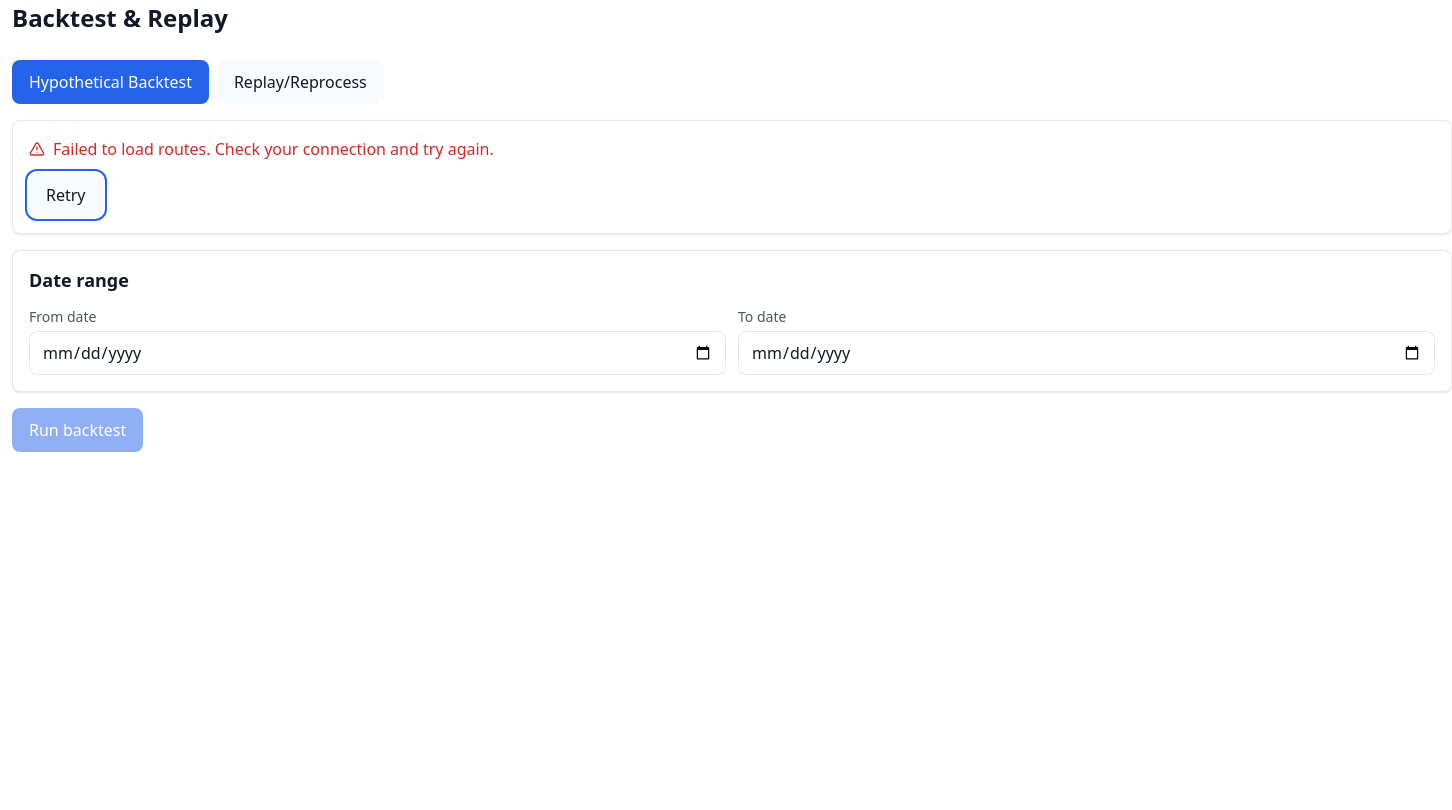
Test: BacktestView › recovers the route editor after a successful retry
The image size is (1452, 810).
Click the button "Retry" at (66,195), box left=29, top=173, right=102, bottom=217
(page scrolled)
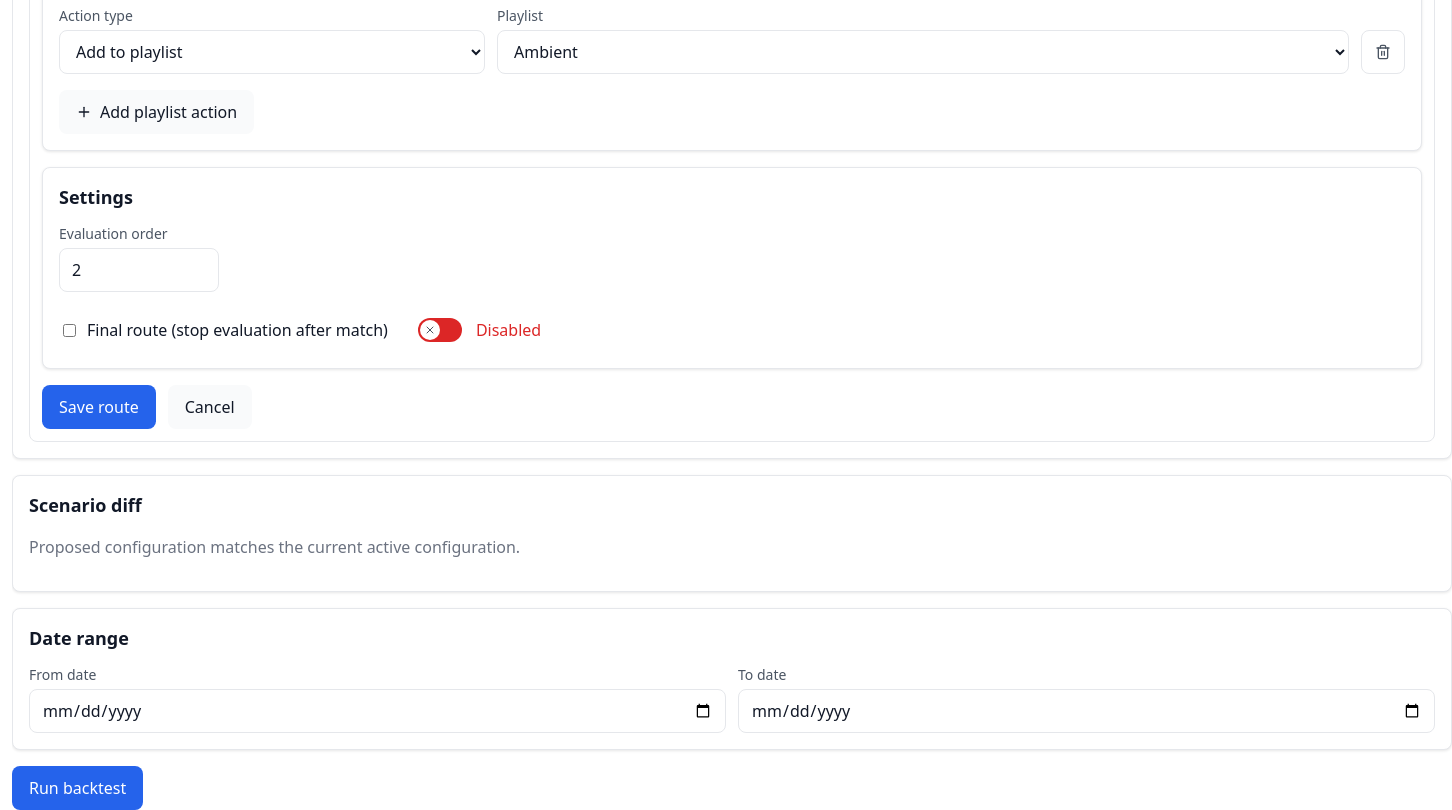
Expected: the message "Failed to load routes. Check your connection and try again. Retry" is gone
Expected: the text "Proposed configuration matches the current active configuration" is shown, left=29, top=536, right=520, bottom=558
